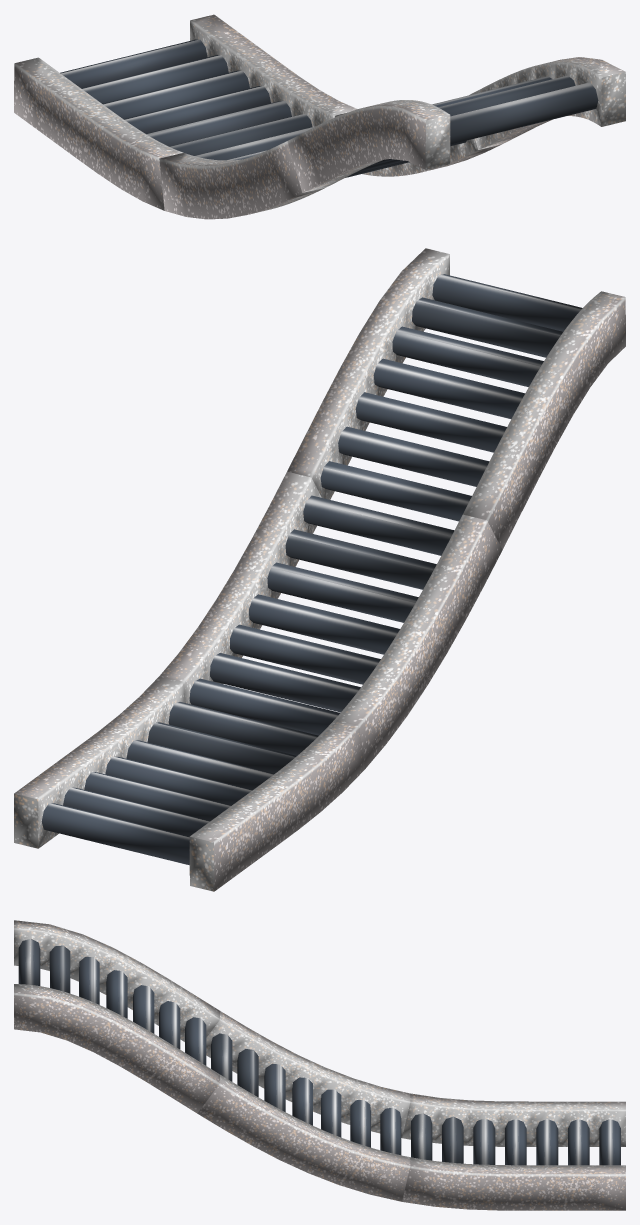
Rendered from CONVERBELT3.fbx.
The picture shows the model from 3 angles, top to bottom: view 1: azimuth 30°, elevation 25°; view 2: azimuth 150°, elevation 25°; view 3: azimuth 270°, elevation 25°; orthographic projection. The views are drawn at different scales.
Visible parts, largest first — view 1: Plane.002; view 2: Plane.002; view 3: Plane.002.
Part boxes in pixels (x1,y1,x2,y2): Plane.002: (14,14,625,219); Plane.002: (14,248,625,891); Plane.002: (14,920,625,1210).
Size of the model in its own units: 133 by 187 by 474.
